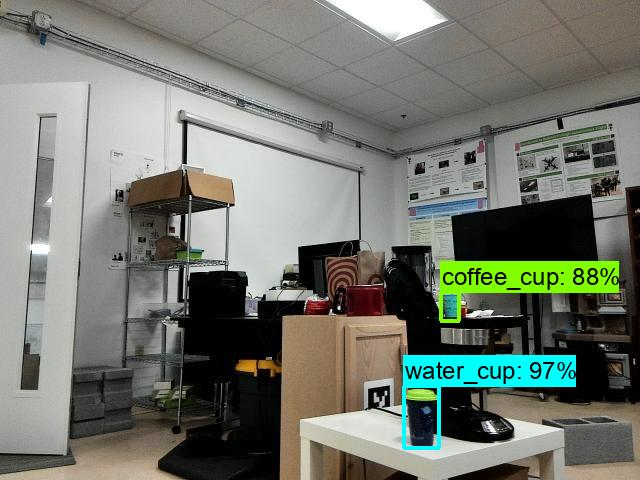coffee_cup: (440, 291, 460, 321)
water_cup: (403, 387, 439, 446)
